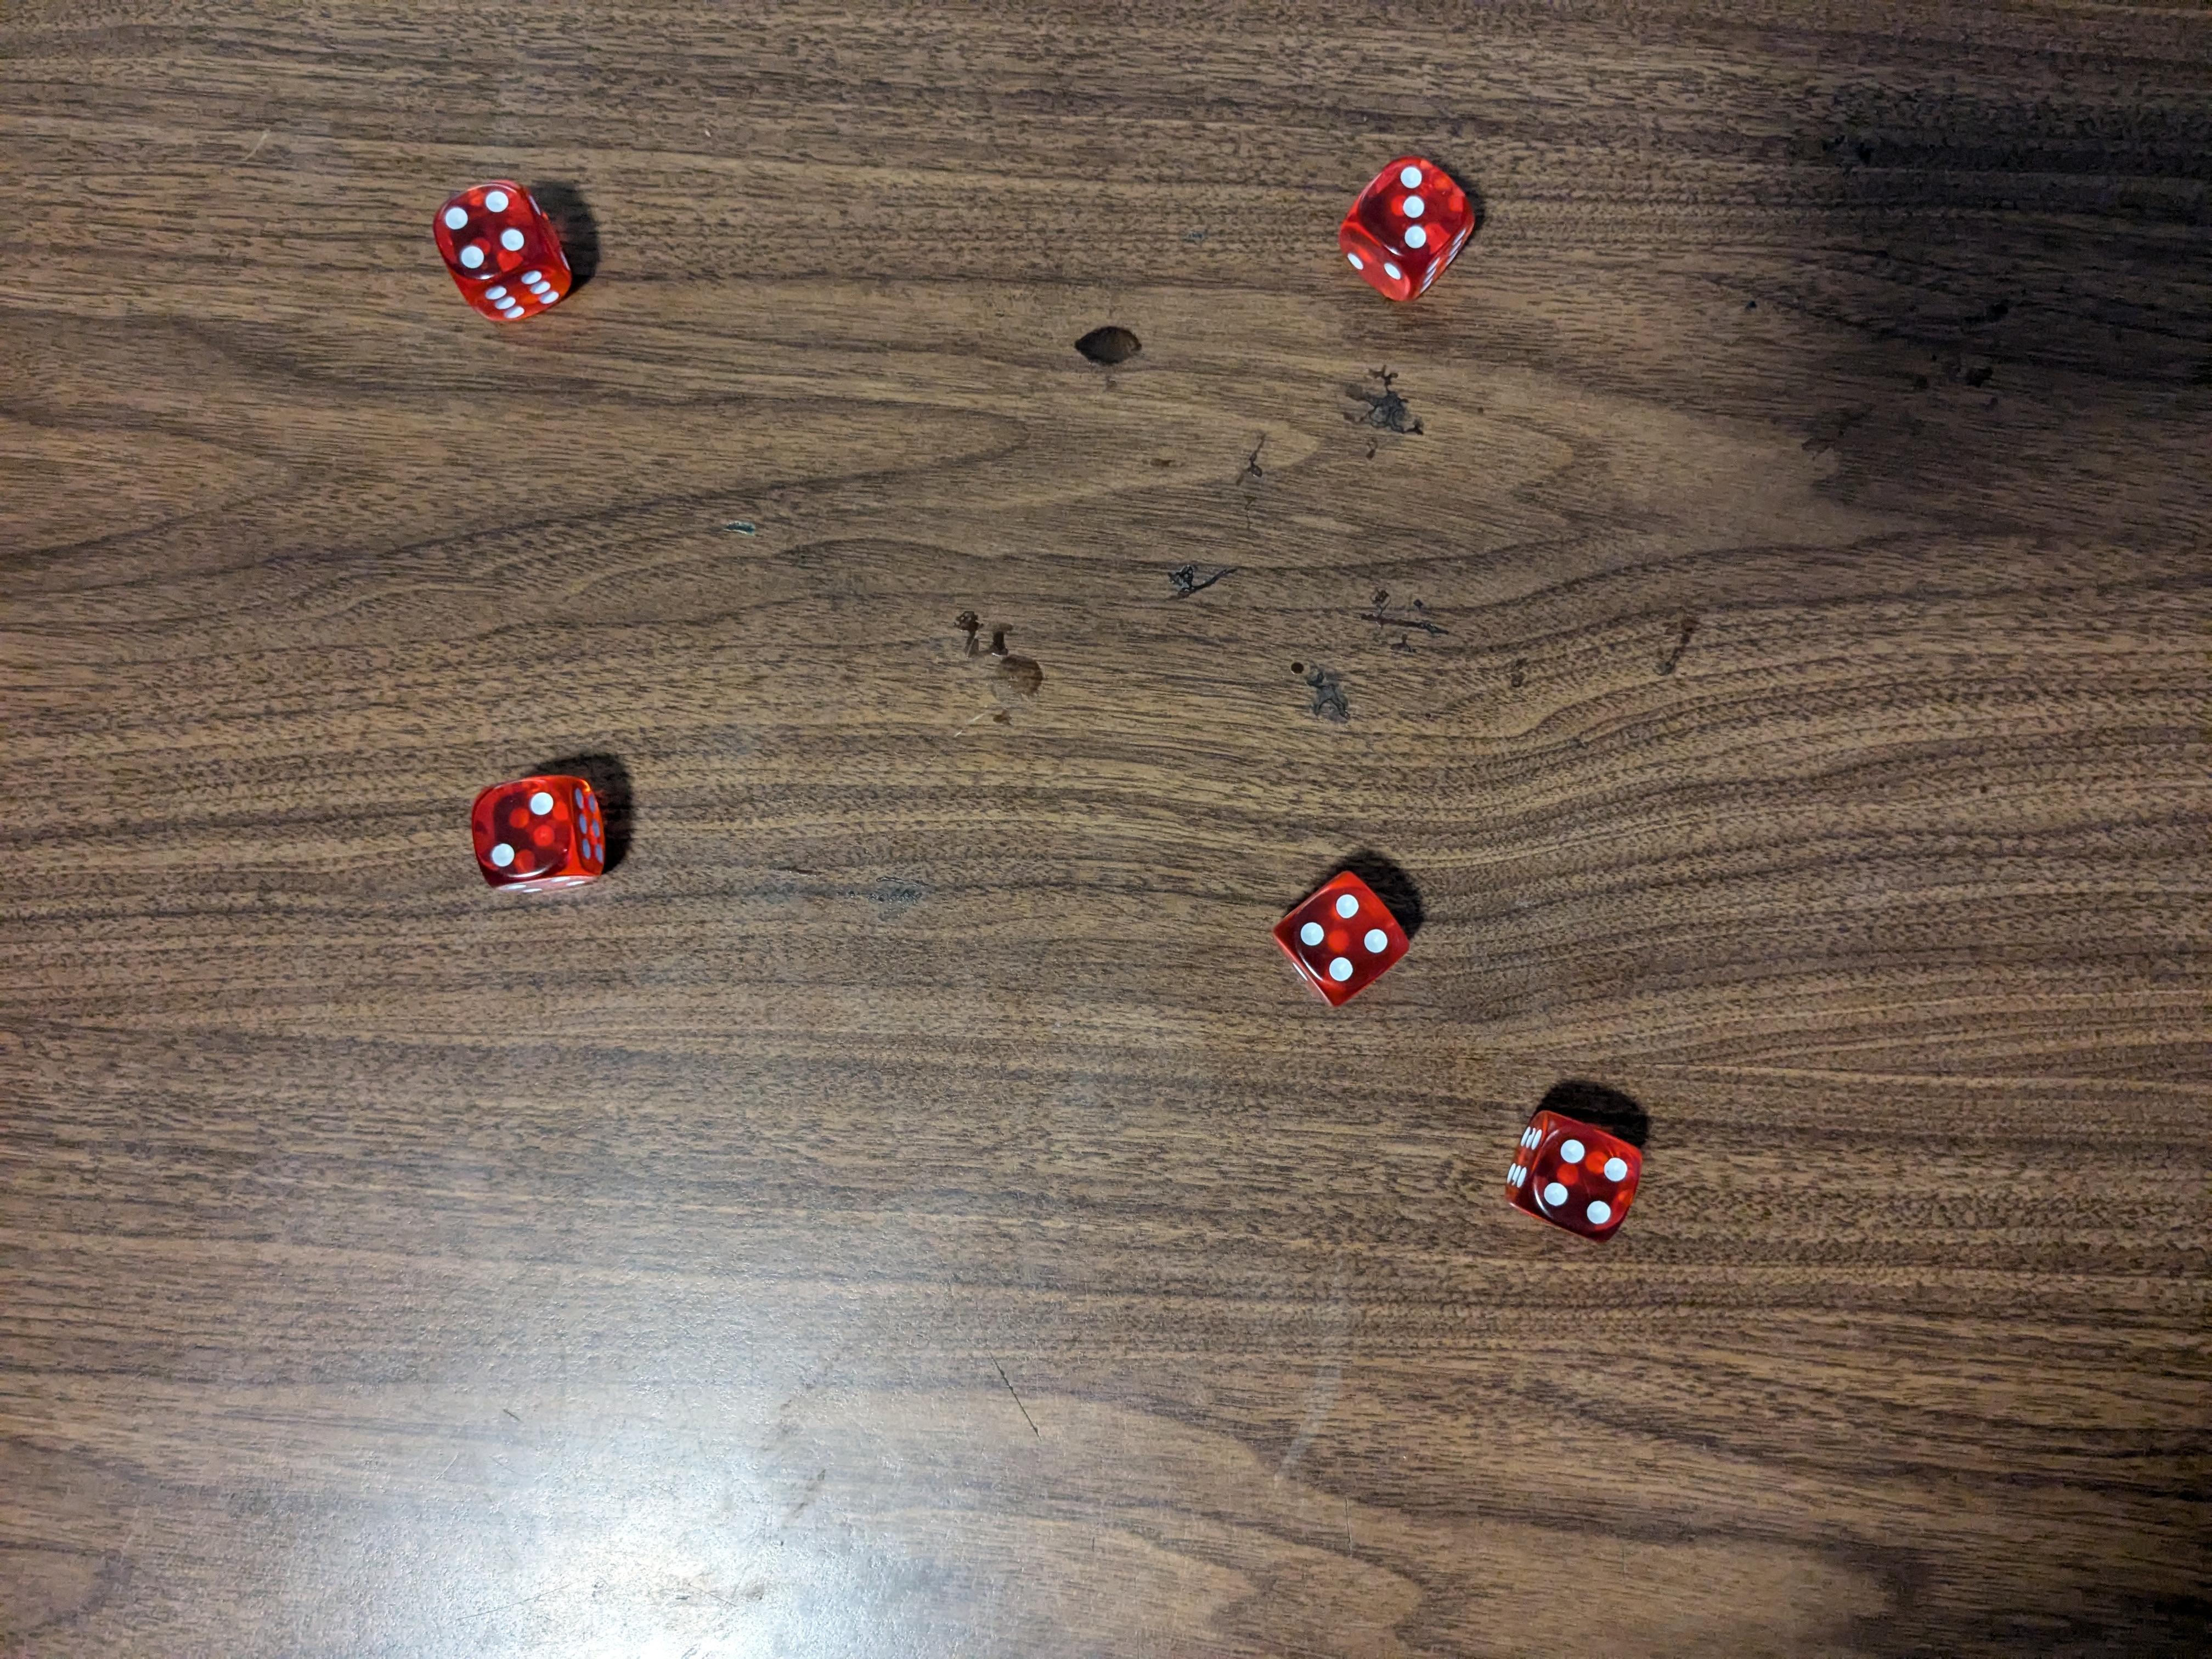four: (1501, 1103, 1655, 1243), (432, 178, 578, 322), (1275, 870, 1411, 1000)
three: (1336, 160, 1498, 305)
two: (467, 772, 613, 897)
